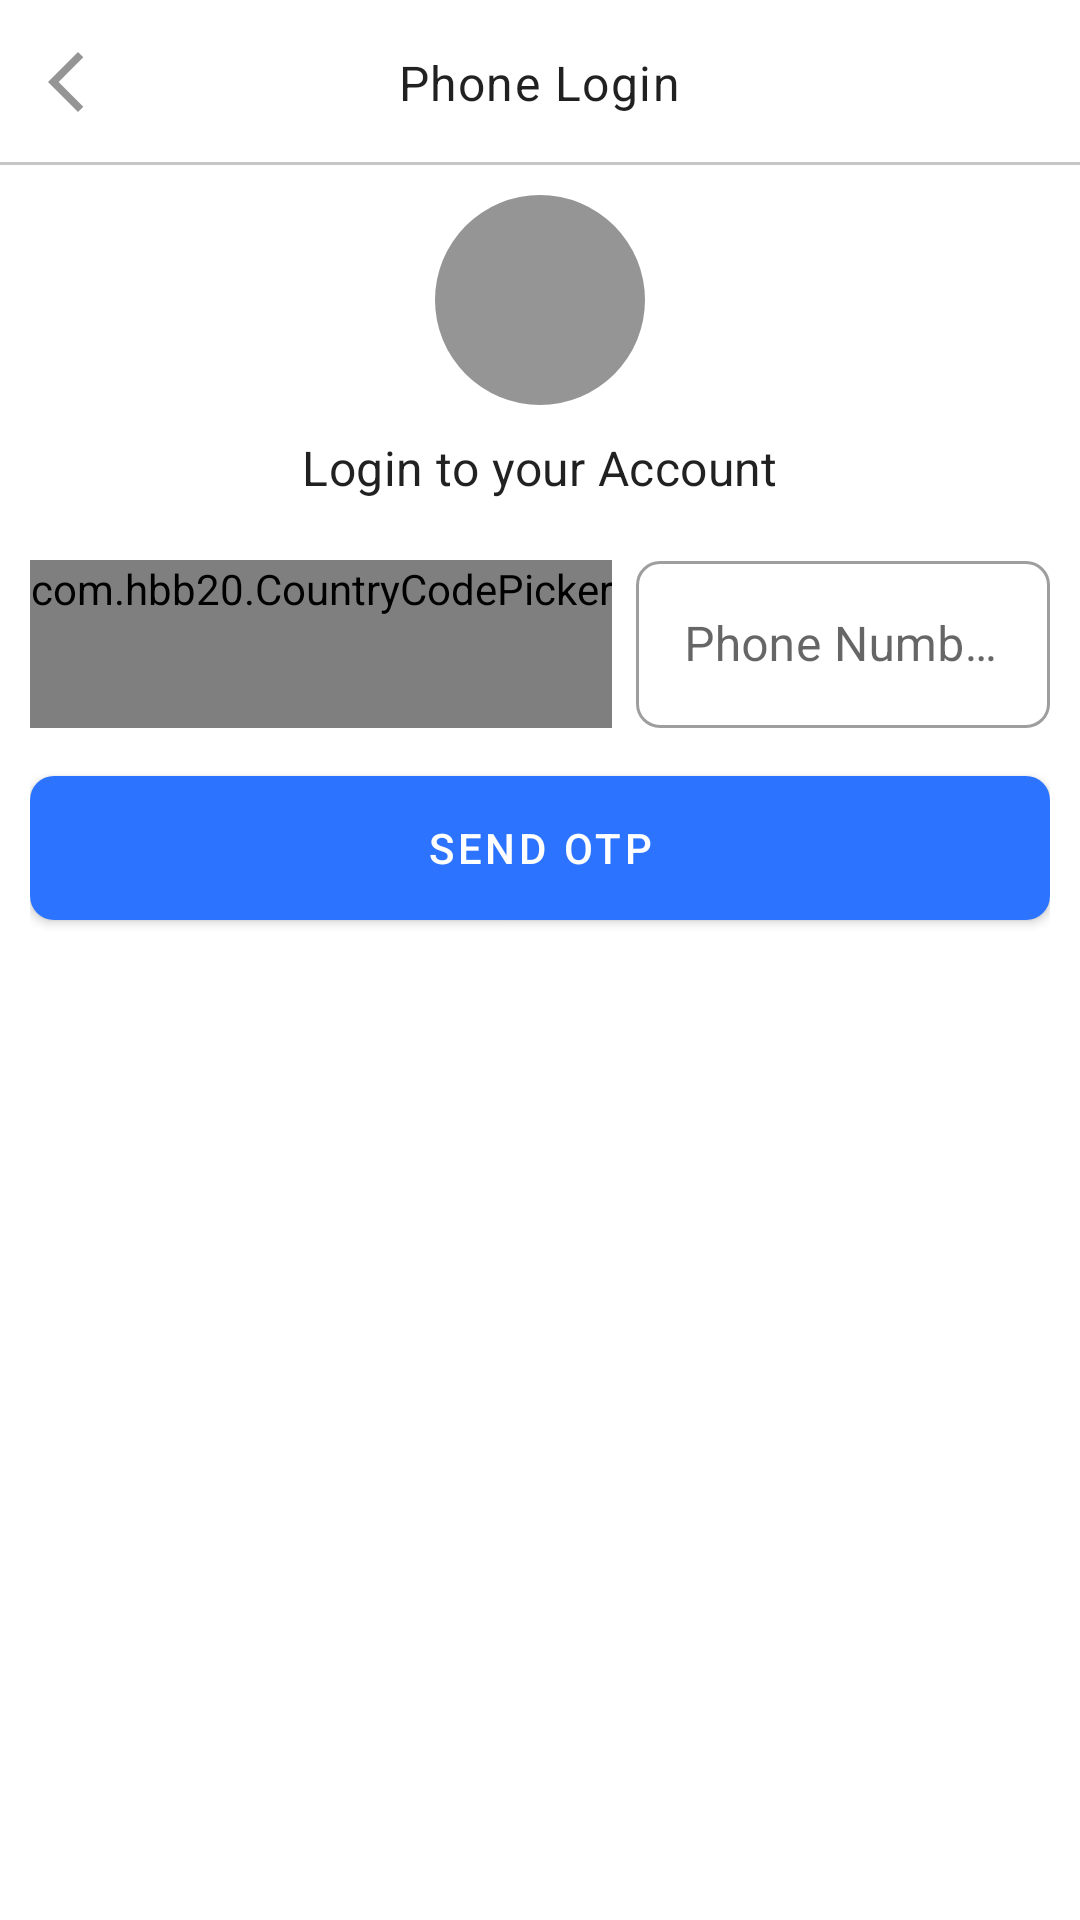

Named icons in this screenshot (1080x1920) and their bounding boxes, (x1,y1,x2,y2):
back: (48,52,83,112)
